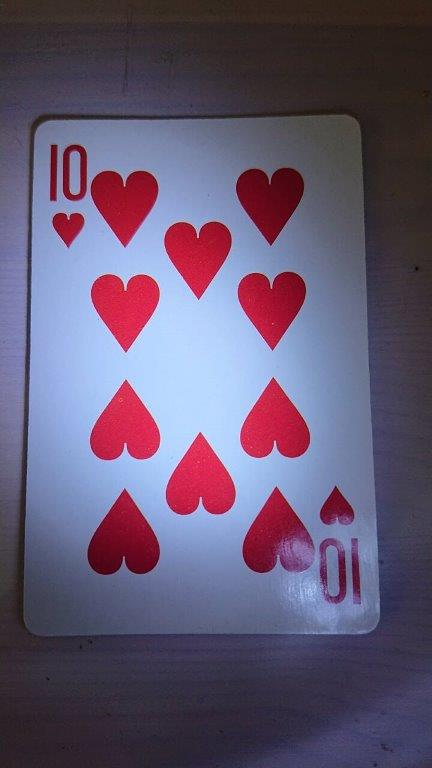10H: (21, 114, 384, 639)
